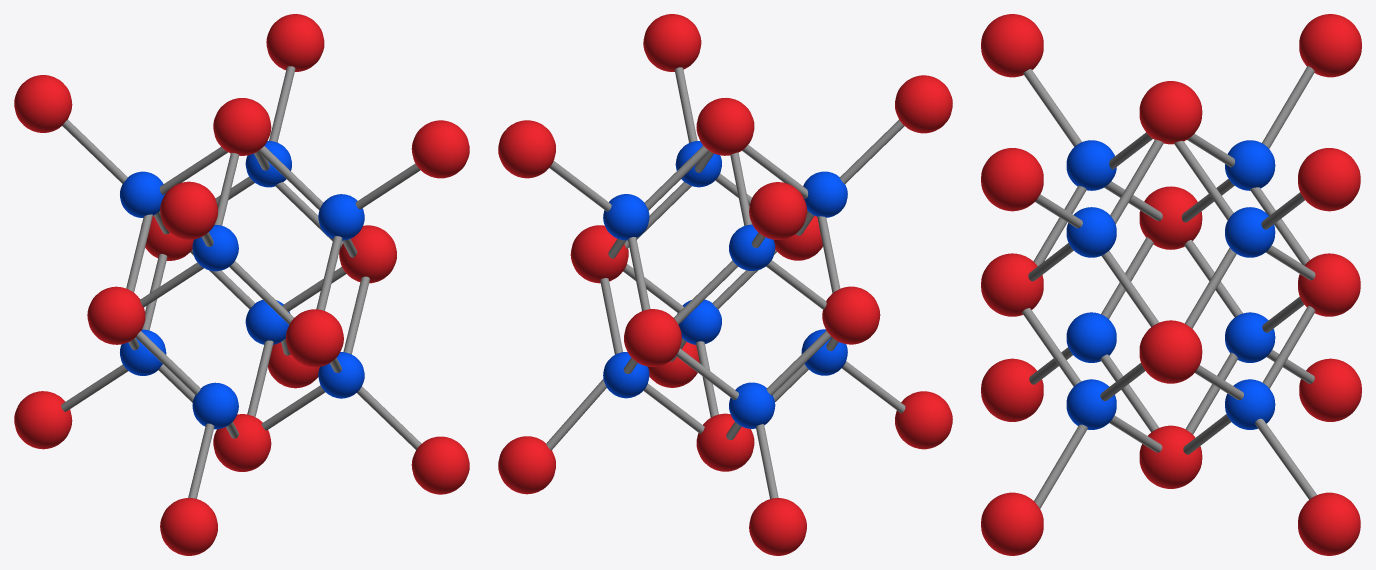
The picture shows the model from 3 angles, left to right: view 1: azimuth 30°, elevation 25°; view 2: azimuth 150°, elevation 25°; view 3: azimuth 270°, elevation 25°; orthographic projection. The views are drawn at different scales.
Visible parts, largest first — view 1: Сферы_Node (×20), Цилиндр_Node (×20), Сферы_Node001, Сферы_Node002; view 2: Сферы_Node (×20), Цилиндр_Node (×19), Сферы_Node001, Сферы_Node002; view 3: Сферы_Node (×20), Цилиндр_Node (×29), Сферы_Node001, Сферы_Node002.
Boxes of the visible parts, x1=… form: Сферы_Node (×20): x1=14, y1=14, x2=469, y2=555; Цилиндр_Node (×20): x1=61, y1=66, x2=421, y2=498; Сферы_Node001: x1=213, y1=98, x2=271, y2=155; Сферы_Node002: x1=213, y1=414, x2=271, y2=471; Сферы_Node (×20): x1=498, y1=14, x2=952, y2=555; Цилиндр_Node (×19): x1=546, y1=67, x2=905, y2=498; Сферы_Node001: x1=696, y1=97, x2=754, y2=155; Сферы_Node002: x1=696, y1=413, x2=754, y2=471; Сферы_Node (×20): x1=981, y1=14, x2=1361, y2=555; Цилиндр_Node (×29): x1=1022, y1=66, x2=1316, y2=508; Сферы_Node001: x1=1139, y1=81, x2=1202, y2=144; Сферы_Node002: x1=1139, y1=425, x2=1202, y2=488.
Bounding box in the file's own units: 4.72 × 5.51 × 4.73.
Materials: 33 (2 with a texture image).
